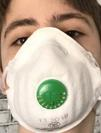with_mask: (2, 1, 101, 133)
